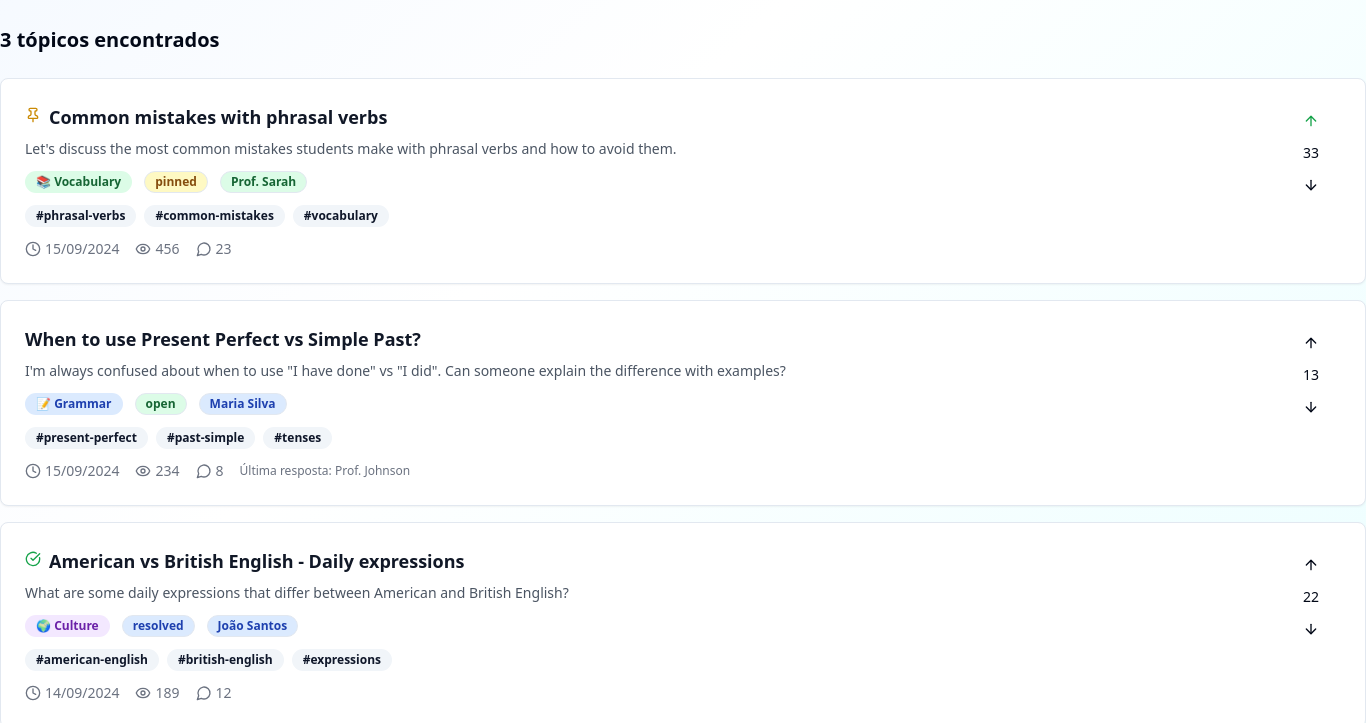
Forum Component › Reply System › should display existing replies with author information
The image size is (1366, 723).
(page scrolled)
Note: Navigate to topic detail
Step 1. Click the heading "When to use Present Perfect vs Simple Past?" → (223, 339), box [25,325,421,353]
(page scrolled)
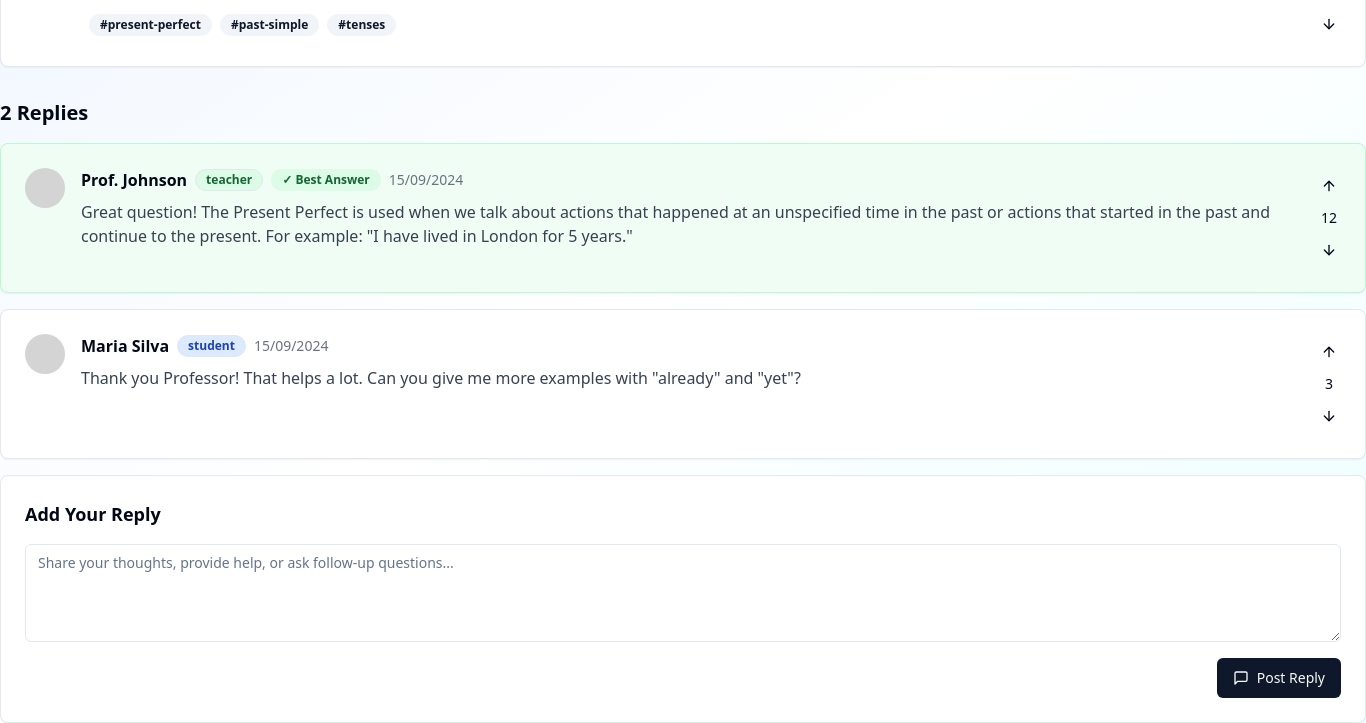
expect the text "Prof. Johnson" is shown: met, box [81,168,187,192]
expect the text "✓ Best Answer" is shown: met, box [271,169,381,191]
expect the text "Great question! The Present Perfect is used" is shown: met, box [81,201,1274,247]
